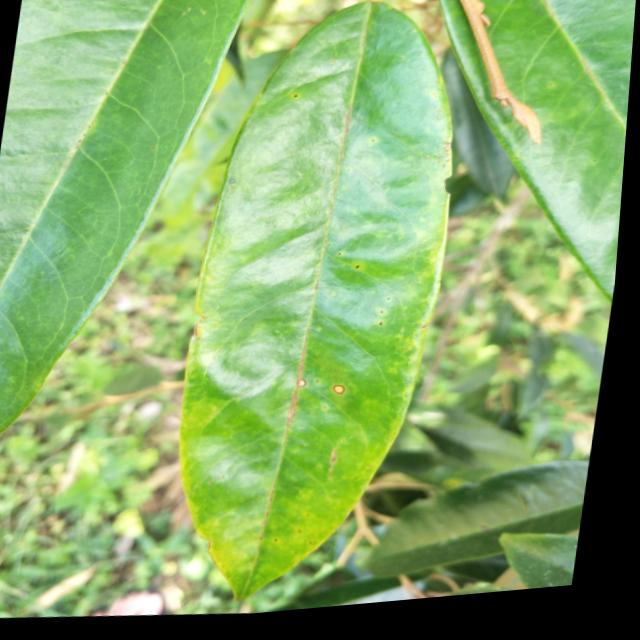Leaf Spot: (291, 227, 408, 411)
